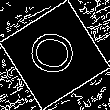O_E: (25, 28, 85, 82)
